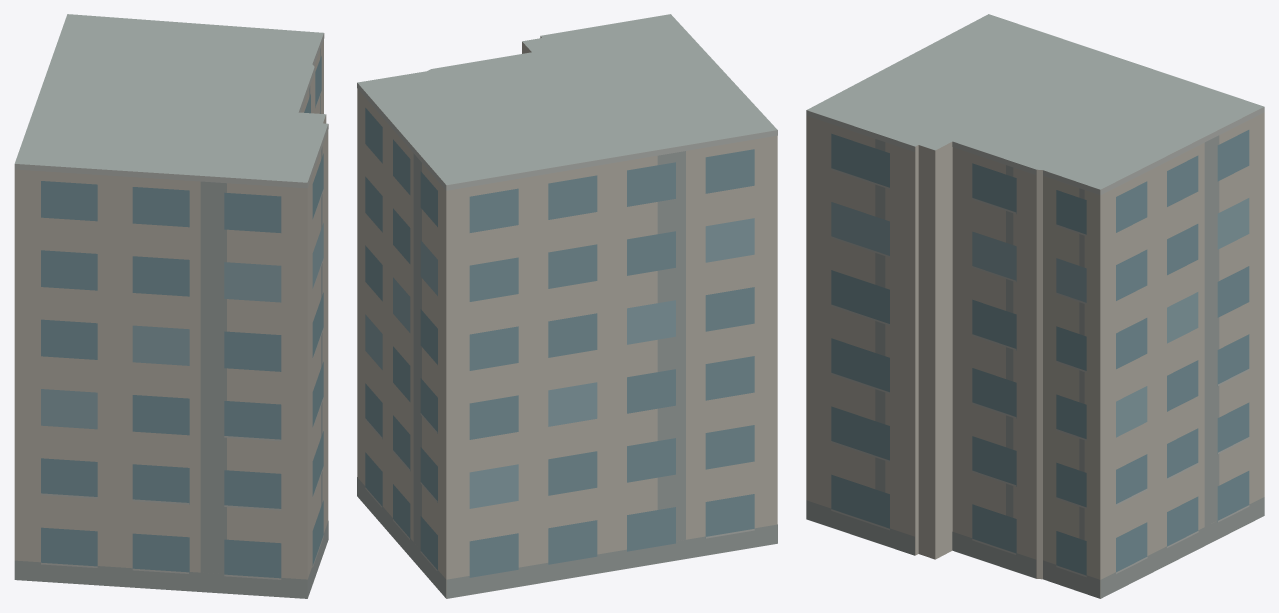
File: survey-upis-32872023.glb
3 renders of one model, left to right at view 1: azimuth 30°, elevation 25°; view 2: azimuth 150°, elevation 25°; view 3: azimuth 270°, elevation 25°, orthographic.
Visible parts, largest first — view 1: survey-upis-32872023.tmp; view 2: survey-upis-32872023.tmp; view 3: survey-upis-32872023.tmp.
Boxes of the visible parts, left/top/right/bottom form: survey-upis-32872023.tmp: left=14, top=14, right=328, bottom=598; survey-upis-32872023.tmp: left=357, top=14, right=777, bottom=598; survey-upis-32872023.tmp: left=806, top=14, right=1264, bottom=598.
Size of the model in its own units: 16.5 by 17.9 by 18.17.
